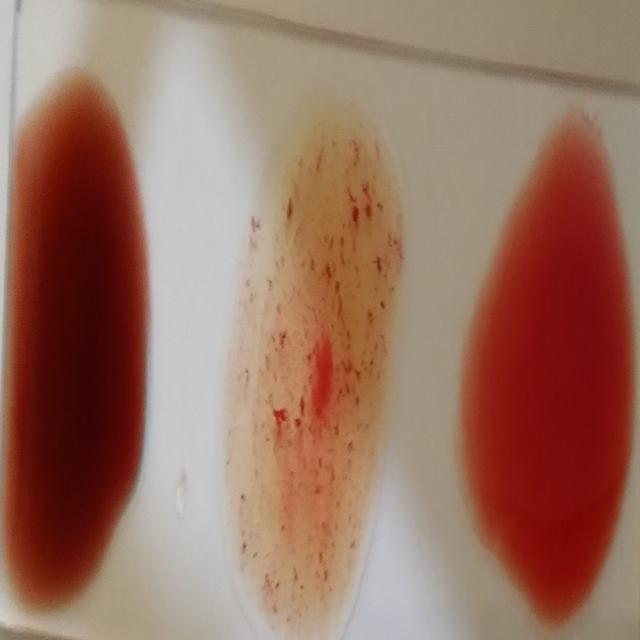B: (234, 54, 393, 631)
